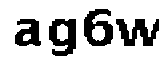6: (80, 5, 115, 49)
a: (13, 17, 45, 48)
g: (46, 15, 79, 60)
w: (115, 15, 160, 54)
